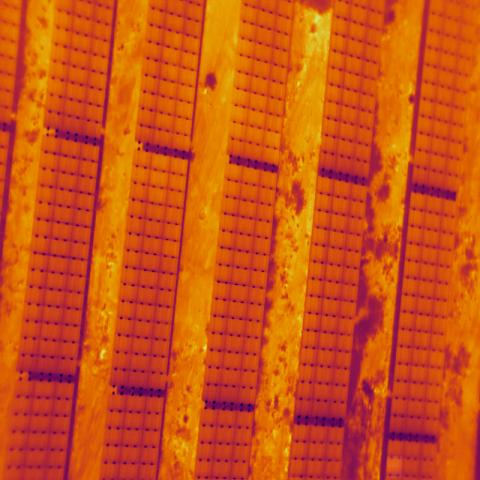fault: (387, 456, 402, 478)
